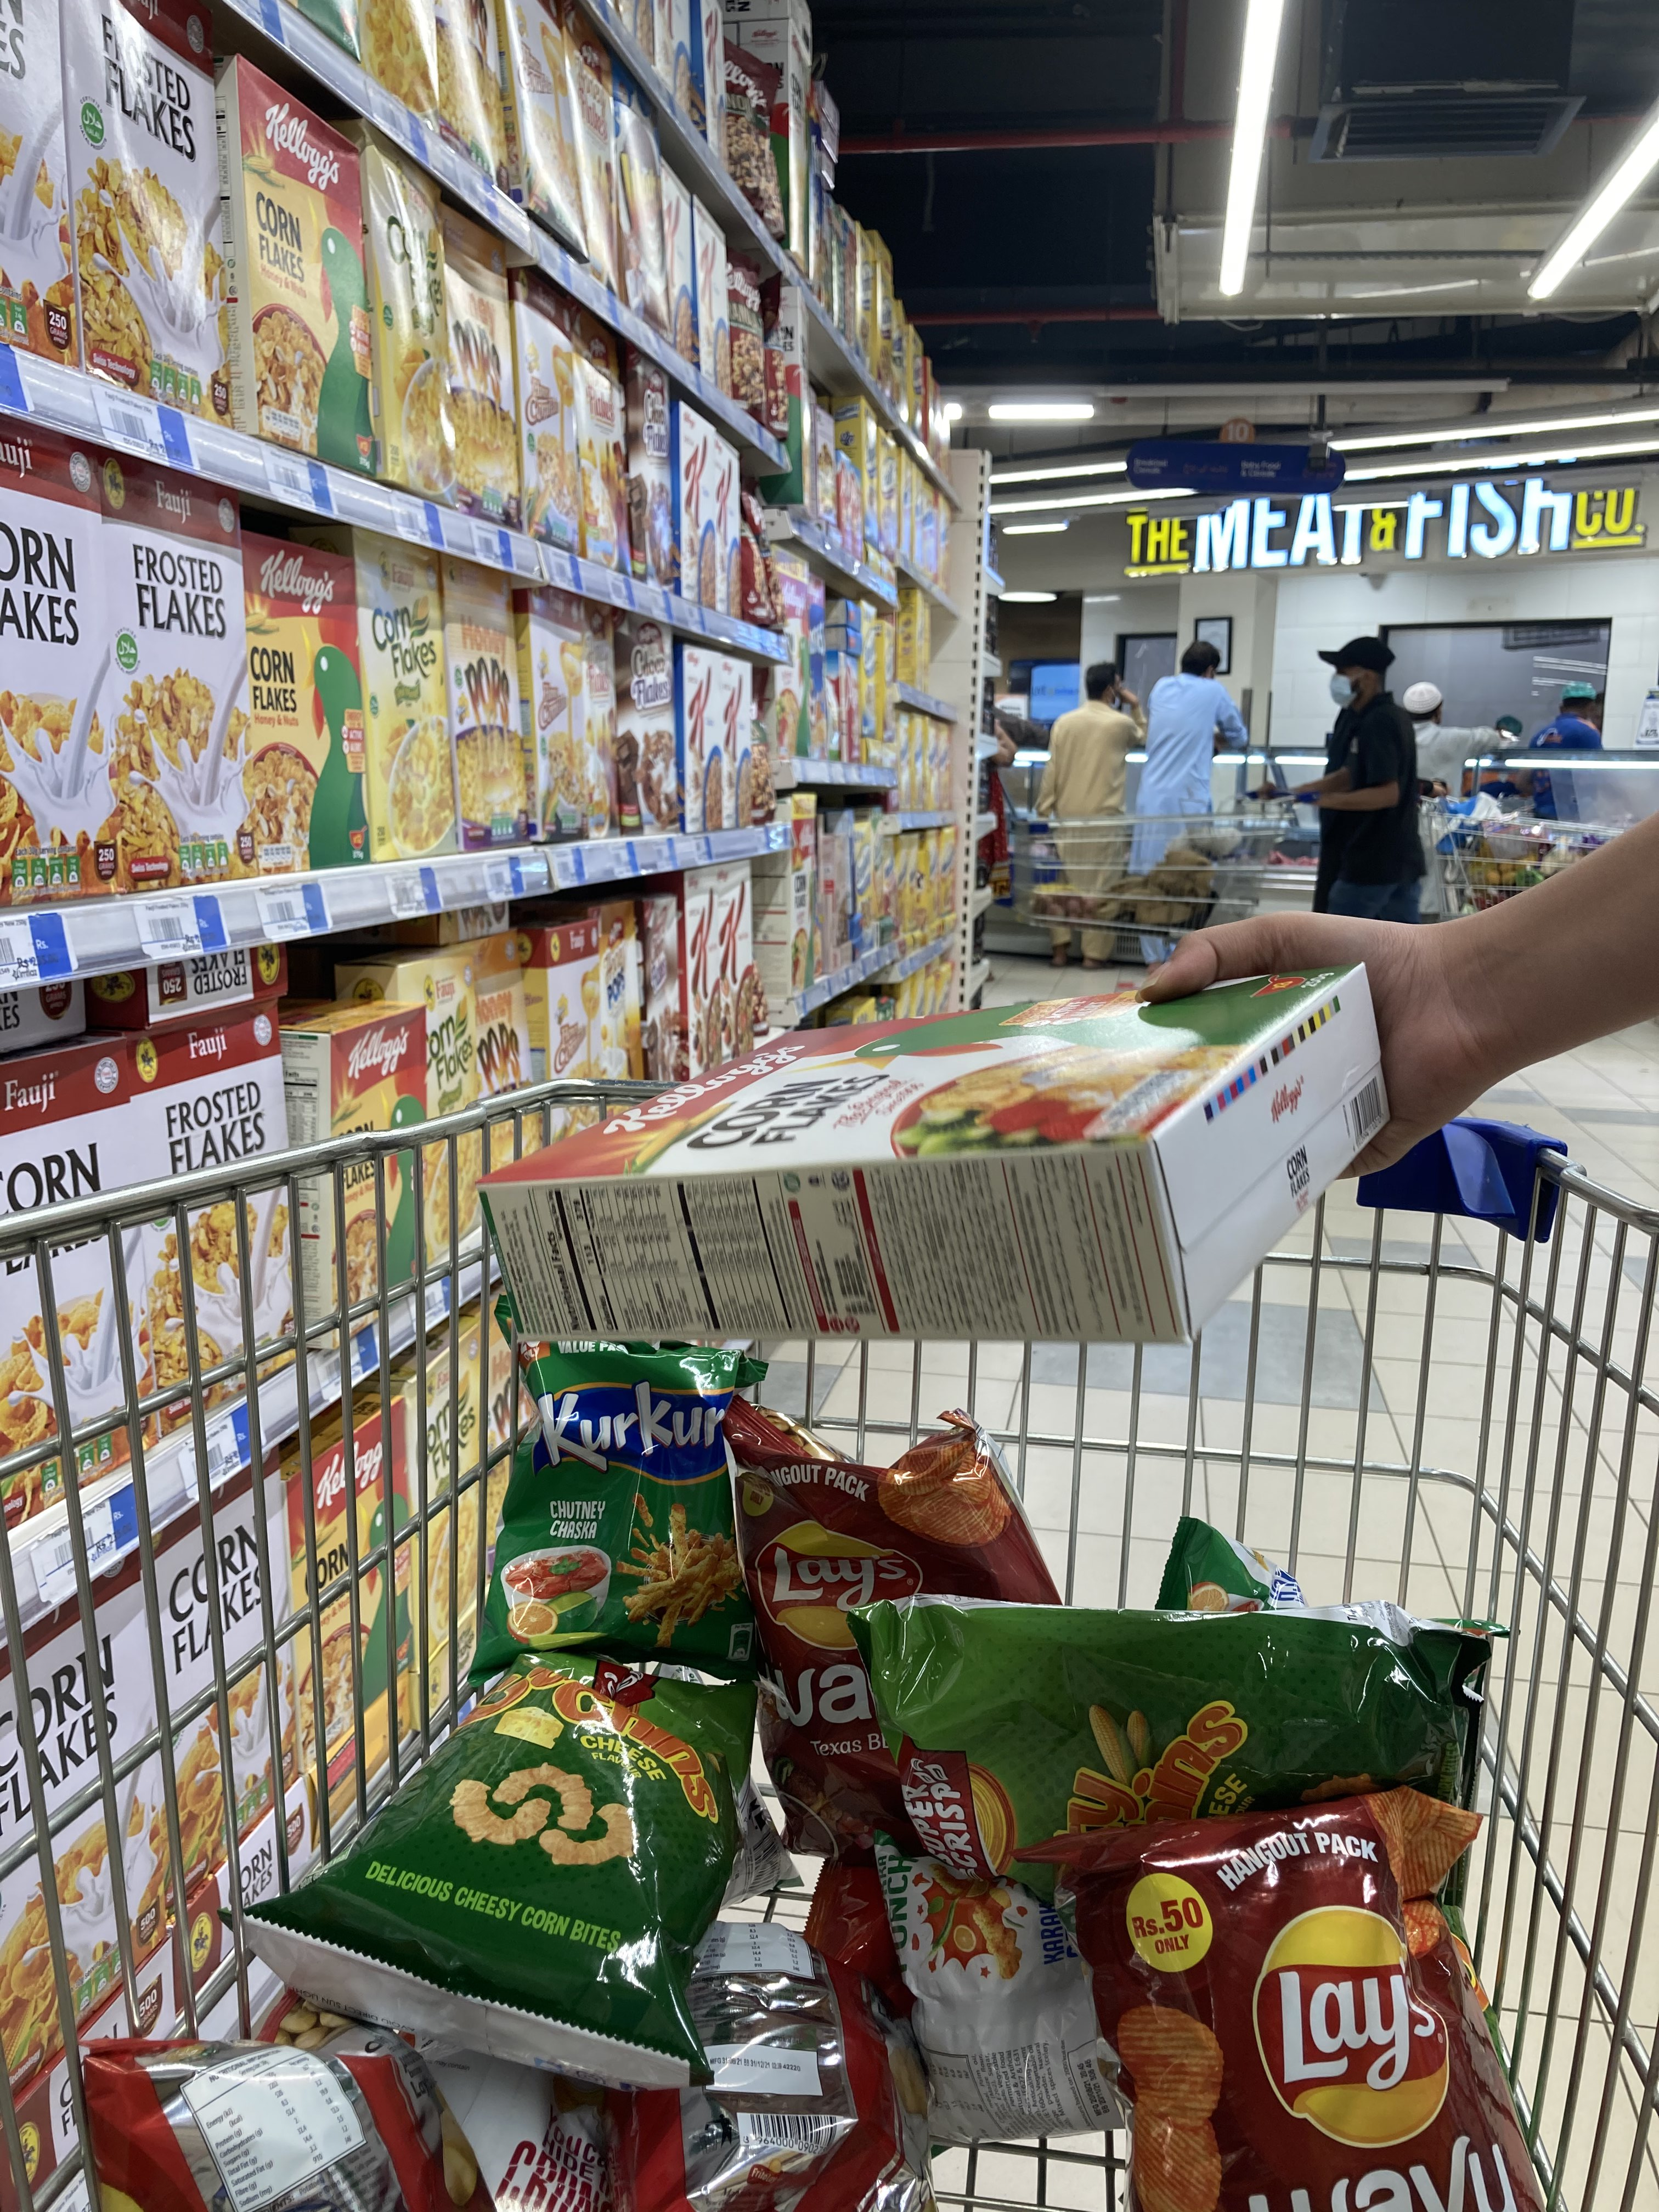Kellogg's Corn Flakes: (481, 961, 1399, 1353)
